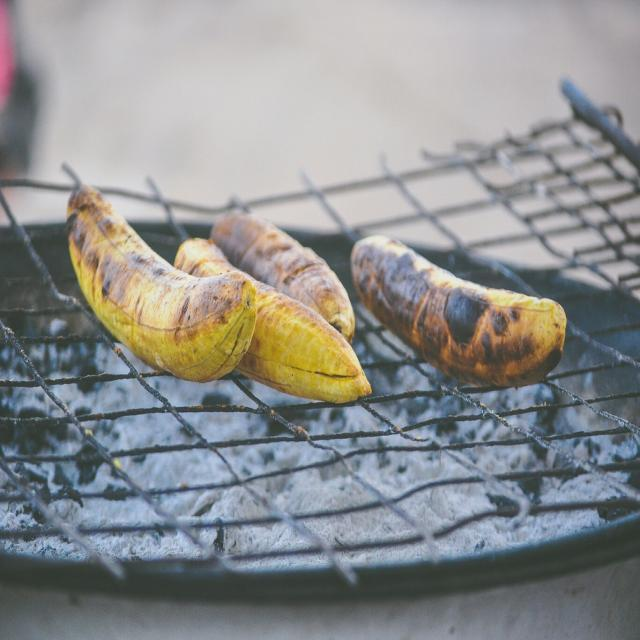platano: (49, 173, 571, 413)
